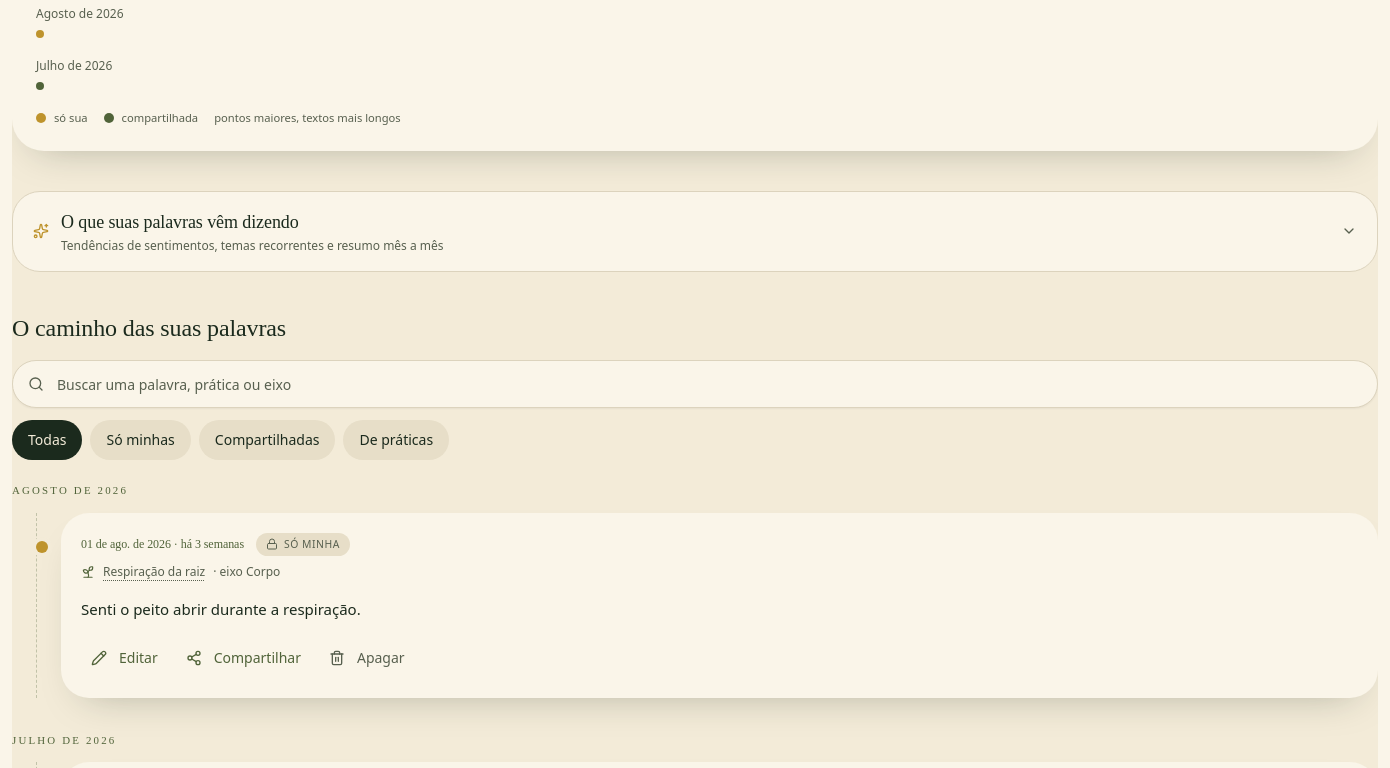
Test case: Diário de reflexão — privacidade e ações › busca por palavra dentro das reflexões
(page scrolled)
Type "avó" into the field named "Buscar nas suas reflexões".
click(695, 384); type("avó")  # box [12, 360, 1378, 408]
(page scrolled)
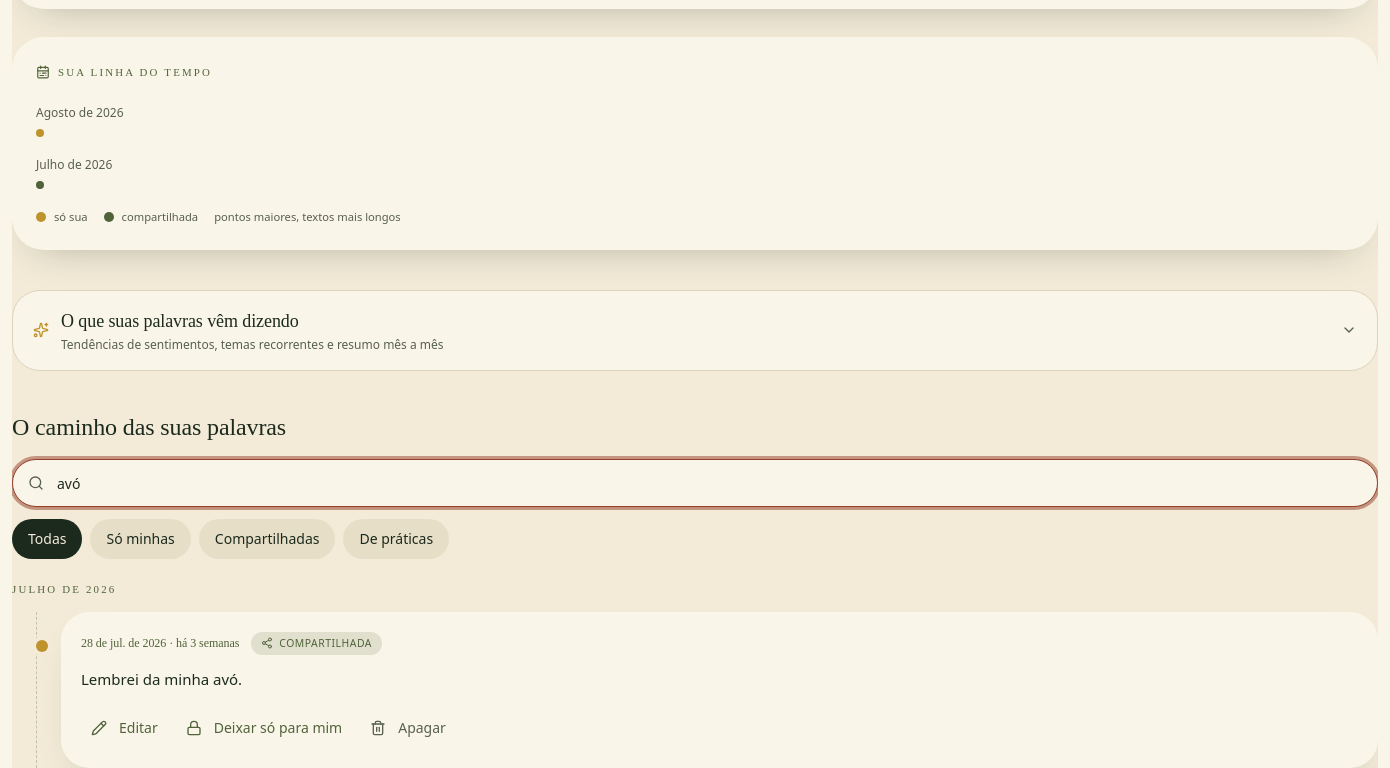
Expected: the text "Senti o peito abrir durante a respiração." is gone
